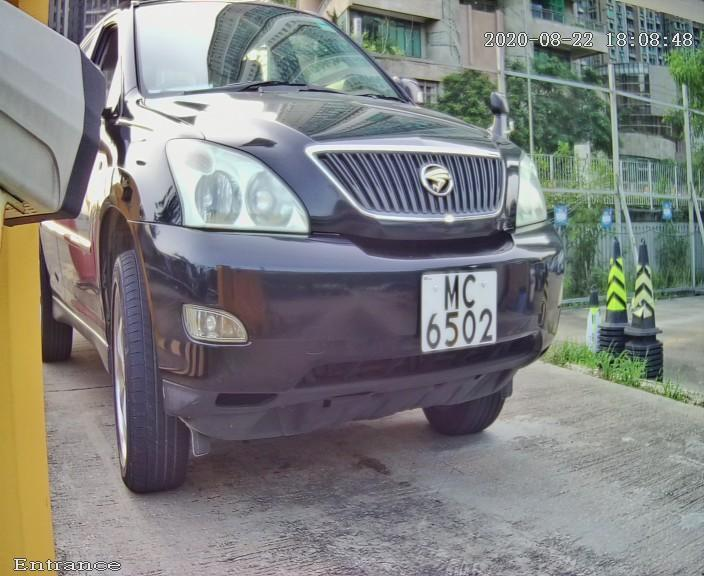Car: (35, 11, 610, 492)
License Plate: (409, 253, 510, 368)
